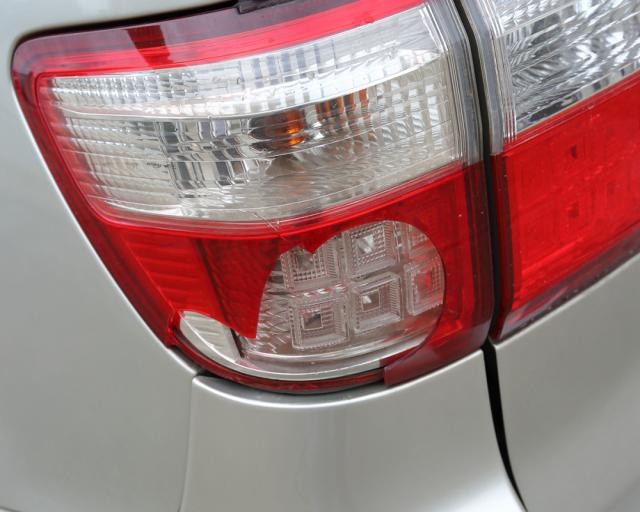lamp broken: (11, 0, 499, 393)
